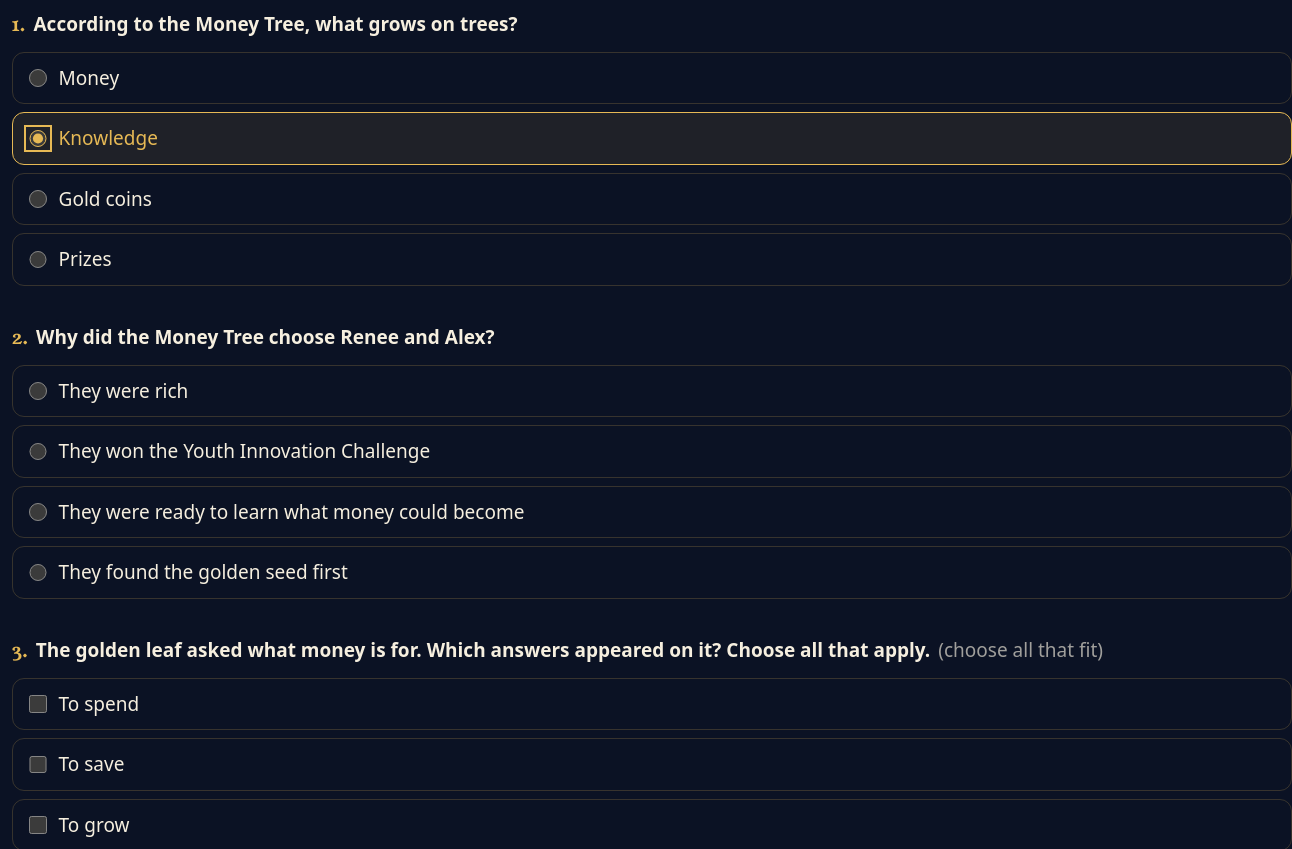
Test: ChapterQuiz › waits for every answer, then scores and saves the attempt
Earlier steps of the test are not shown.
Click the label "They were ready to learn what money could become" at x=291, y=512, box left=12, top=486, right=1291, bottom=538
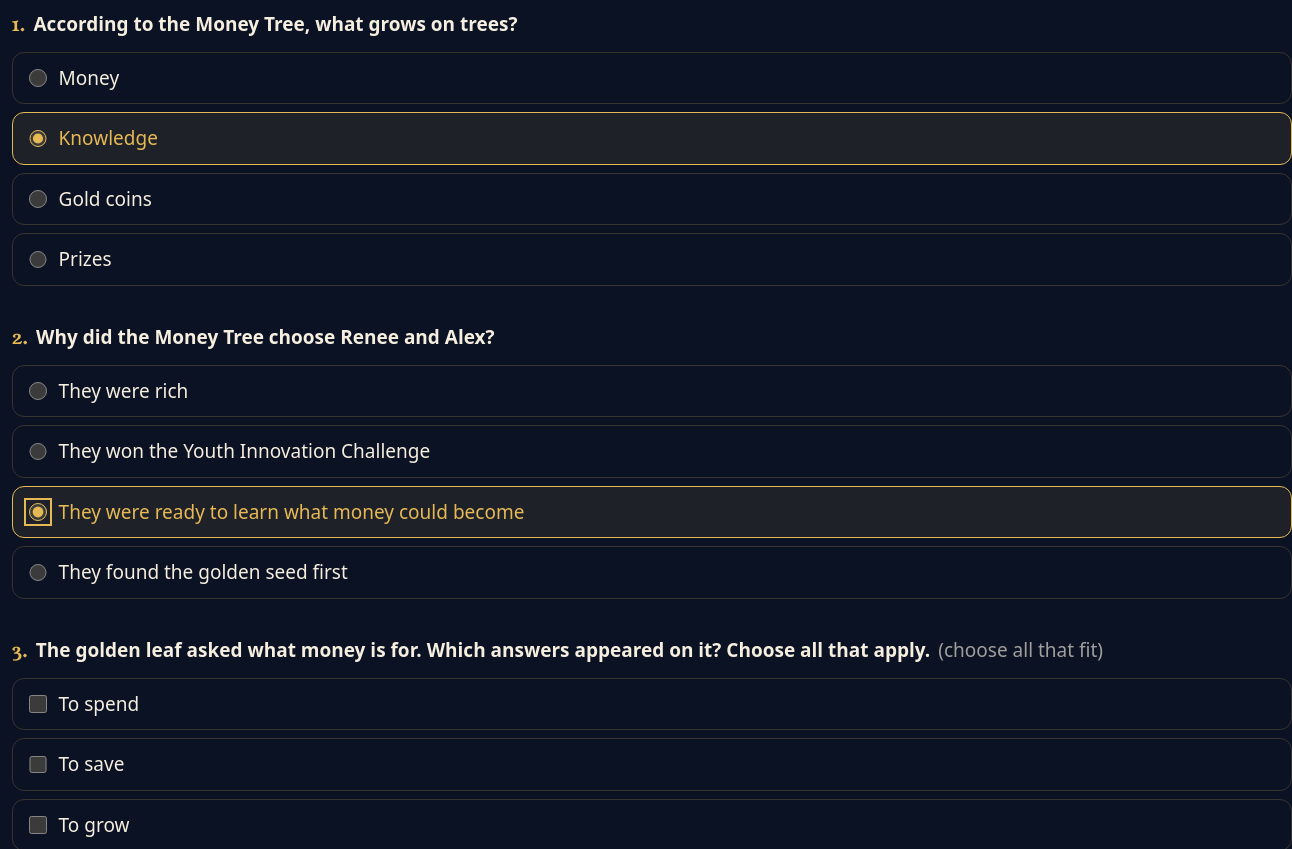
Click the label "To spend" at x=99, y=704, box left=12, top=678, right=1291, bottom=730
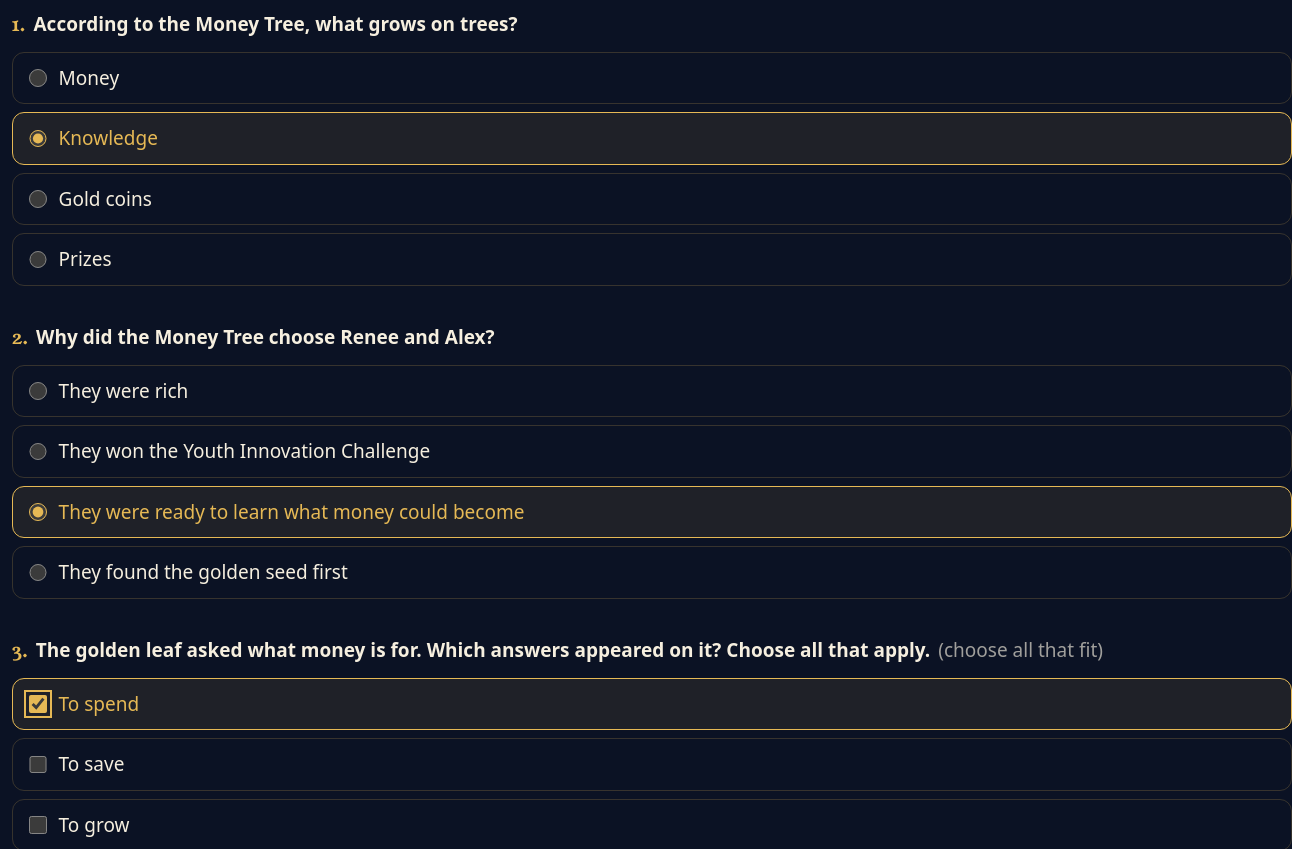
Click the label "To save" at x=92, y=764, box left=12, top=738, right=1291, bottom=791
(page scrolled)
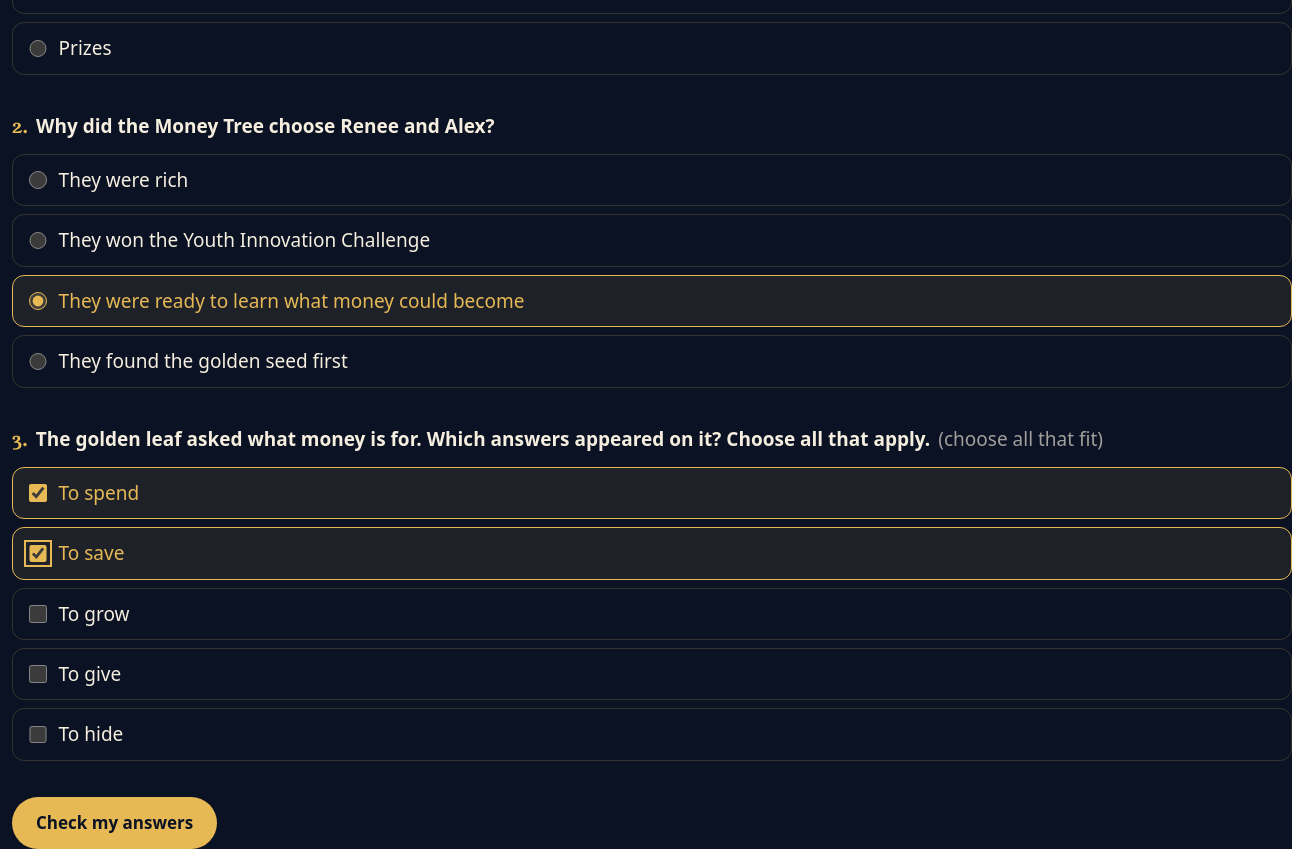
Click the label "To grow" at x=94, y=614, box left=12, top=588, right=1291, bottom=640
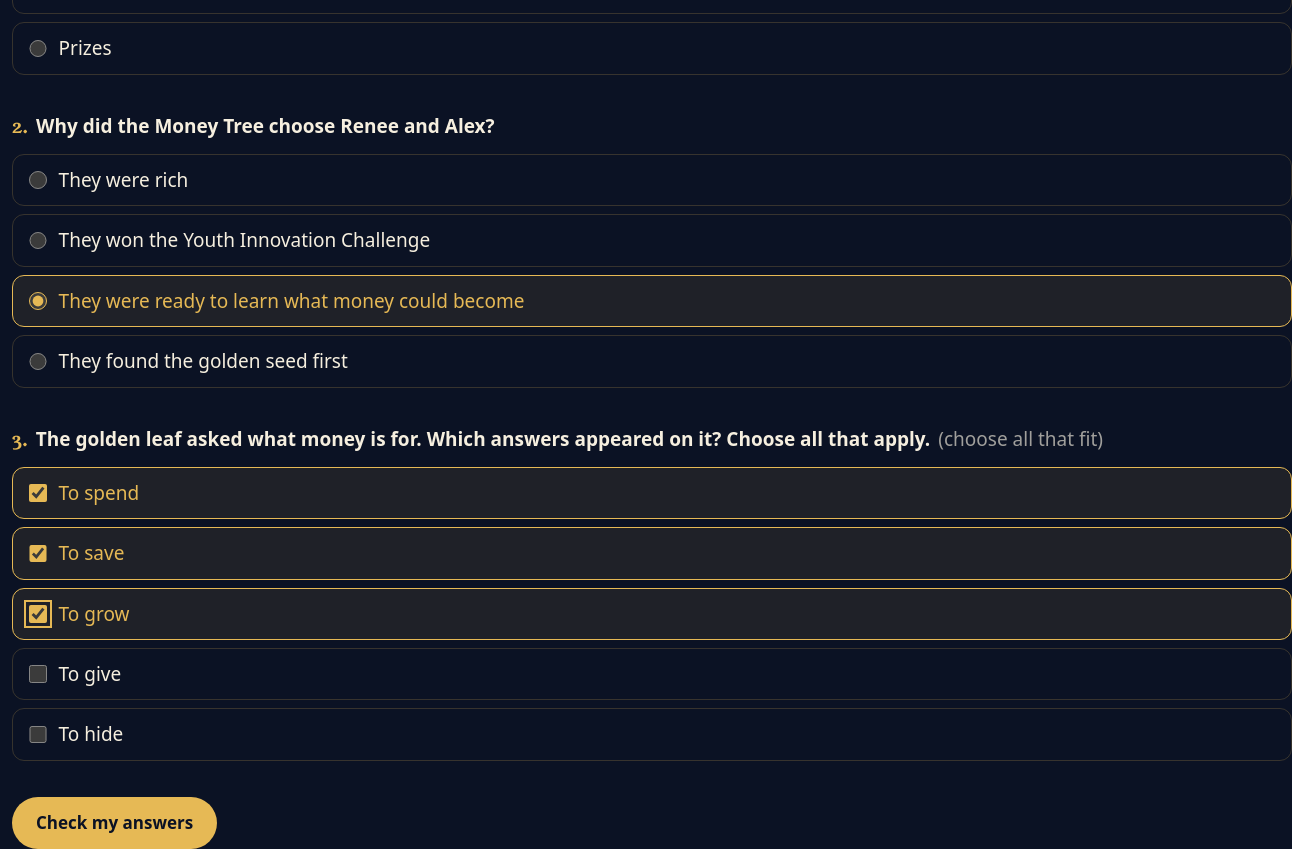
Click the label "To give" at x=90, y=674, box left=12, top=648, right=1291, bottom=700
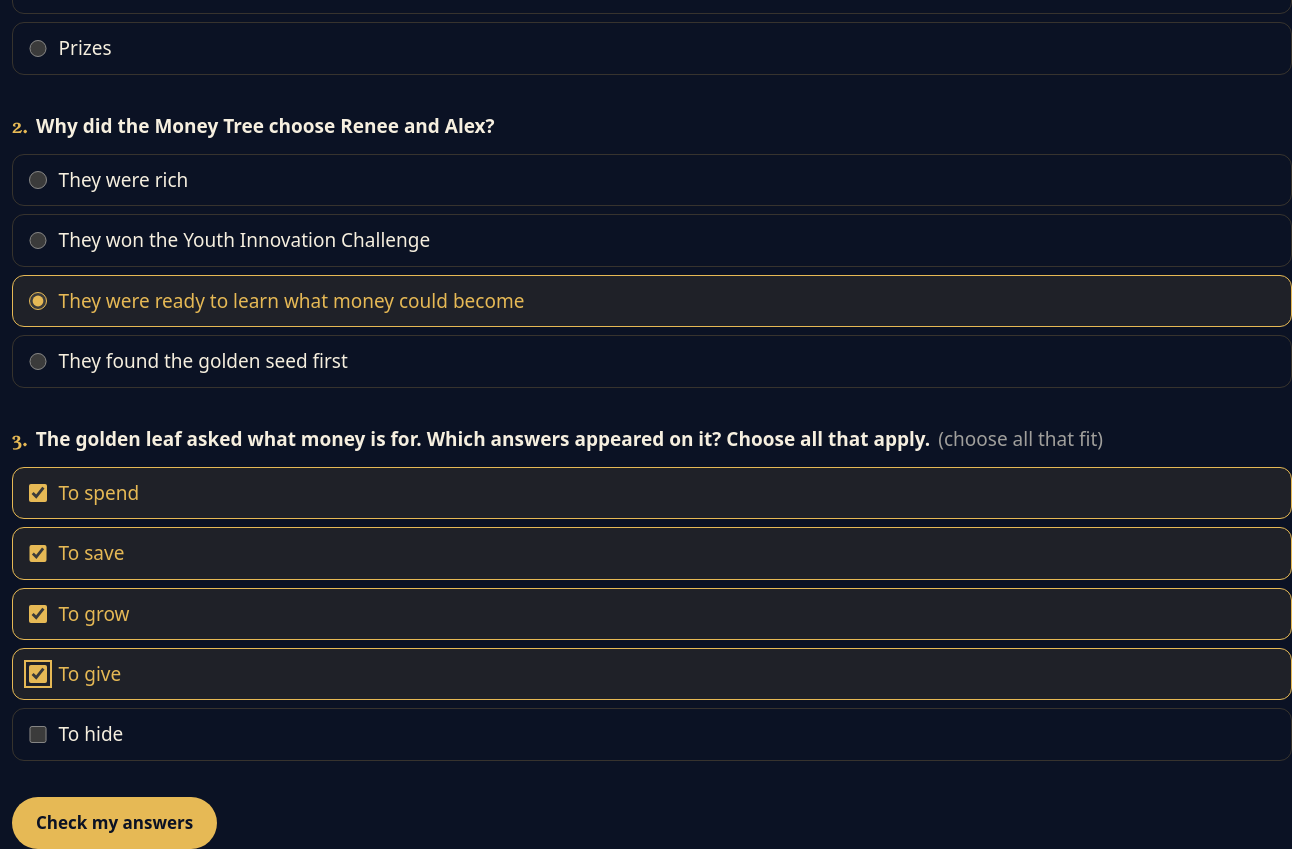
Expected: the button "Check my answers" is enabled
Click the button "Check my answers" at x=115, y=823, box left=12, top=797, right=217, bottom=848
(page scrolled)
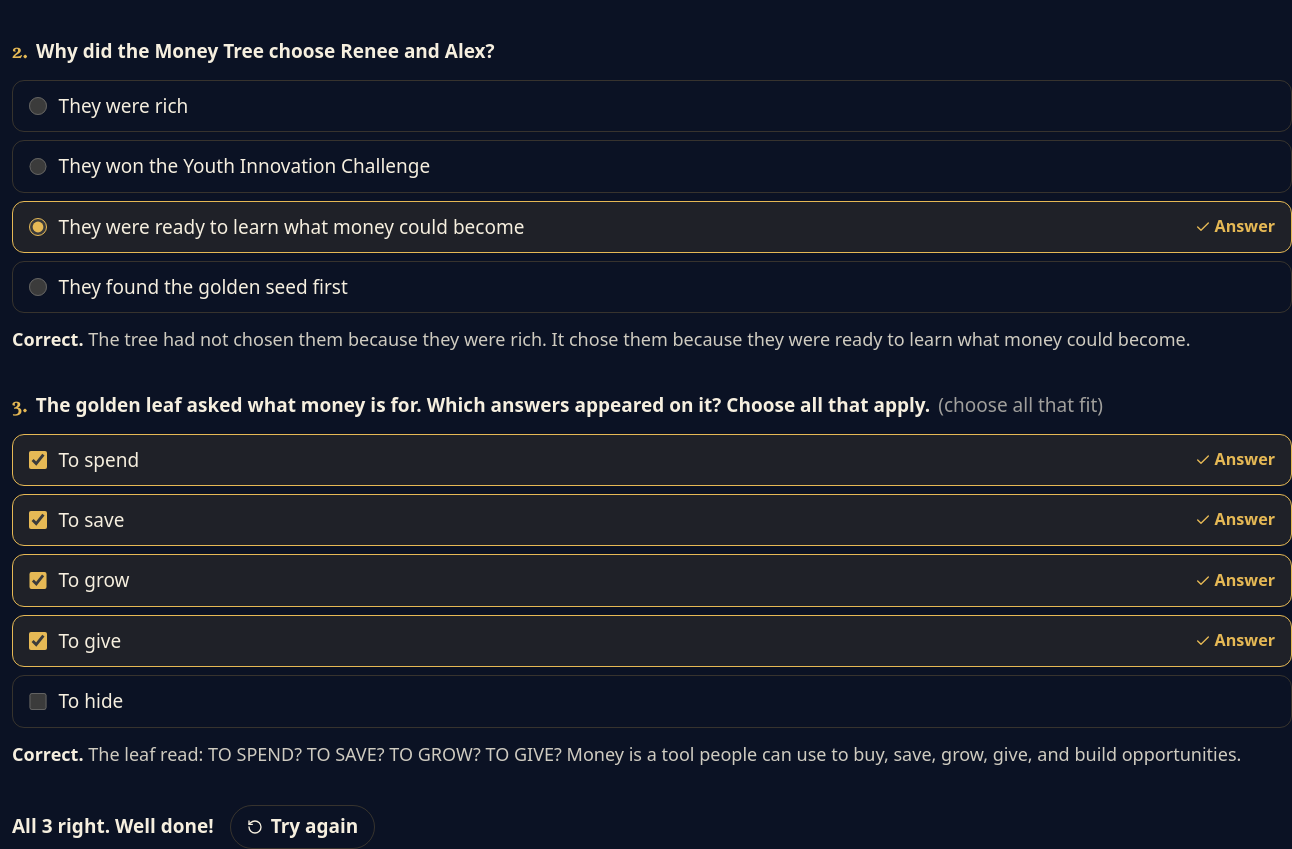
Expected: the button "Try again" is shown, left=230, top=804, right=375, bottom=848
